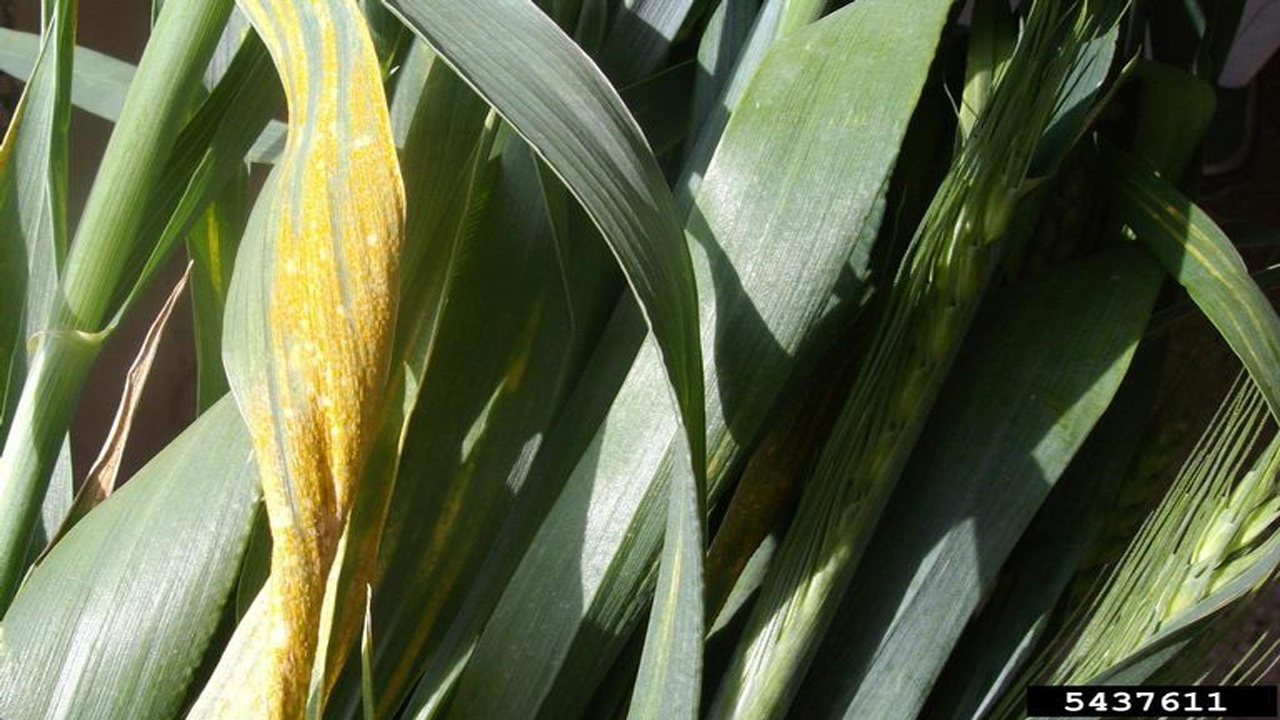stripe_rust: (222, 2, 407, 720)
